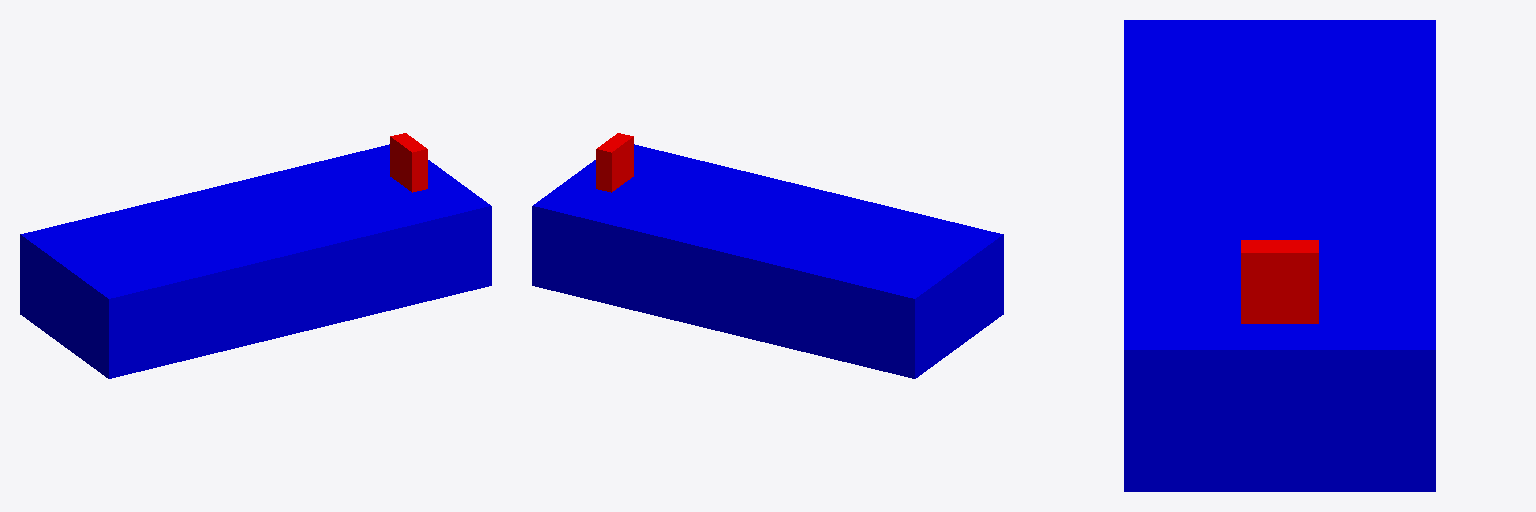
robot.urdf — mycar:
<robot name="mycar">
    <link name="base_link">
        <visual>
            <geometry>
                <box size="0.5 0.2 0.1" />
            </geometry>
            <origin xyz="0 0 0" rpy="0 0 0" />
            <material name="blue">
                <color rgba="0 0 1.0 0.5" />
            </material>
        </visual>
    </link>

    <link name="camera">
        <visual>
            <geometry>
                <box size="0.02 0.05 0.05" />
            </geometry>
            <origin xyz="0 0 0" rpy="0 0 0" />
            <material name="red">
                <color rgba="1 0 0 0.5" />
            </material>
        </visual>
    </link>


    <joint name="camera2baselink" type="continuous">
        <parent link="base_link"/>
        <child link="camera" />
        <origin xyz="0.2 0 0.075" rpy="0 0 0" />
        <axis xyz="0 0 1" />
    </joint>

</robot>

--- What the picture shows (computed from the rendered views, not written in the file) ---
The picture shows the robot from 3 angles, left to right: view 1: azimuth 30°, elevation 25°; view 2: azimuth 150°, elevation 25°; view 3: azimuth 270°, elevation 25°; orthographic projection.
Robot: mycar — 2 links, 1 joints (1 continuous); root link base_link; default pose: all joints at 0.
Visible links, largest first — view 1: base_link, camera; view 2: base_link, camera; view 3: base_link, camera.
Boxes of the visible links, x1,y1,x2,y2 form: base_link: (20, 144, 491, 378); camera: (390, 133, 427, 192); base_link: (532, 144, 1003, 378); camera: (596, 133, 633, 192); base_link: (1124, 20, 1435, 491); camera: (1241, 240, 1318, 323).
Size in the robot's own frame: 0.5 by 0.2 by 0.15 metres.
Geometry: primitives only (box / cylinder / sphere), no mesh files.